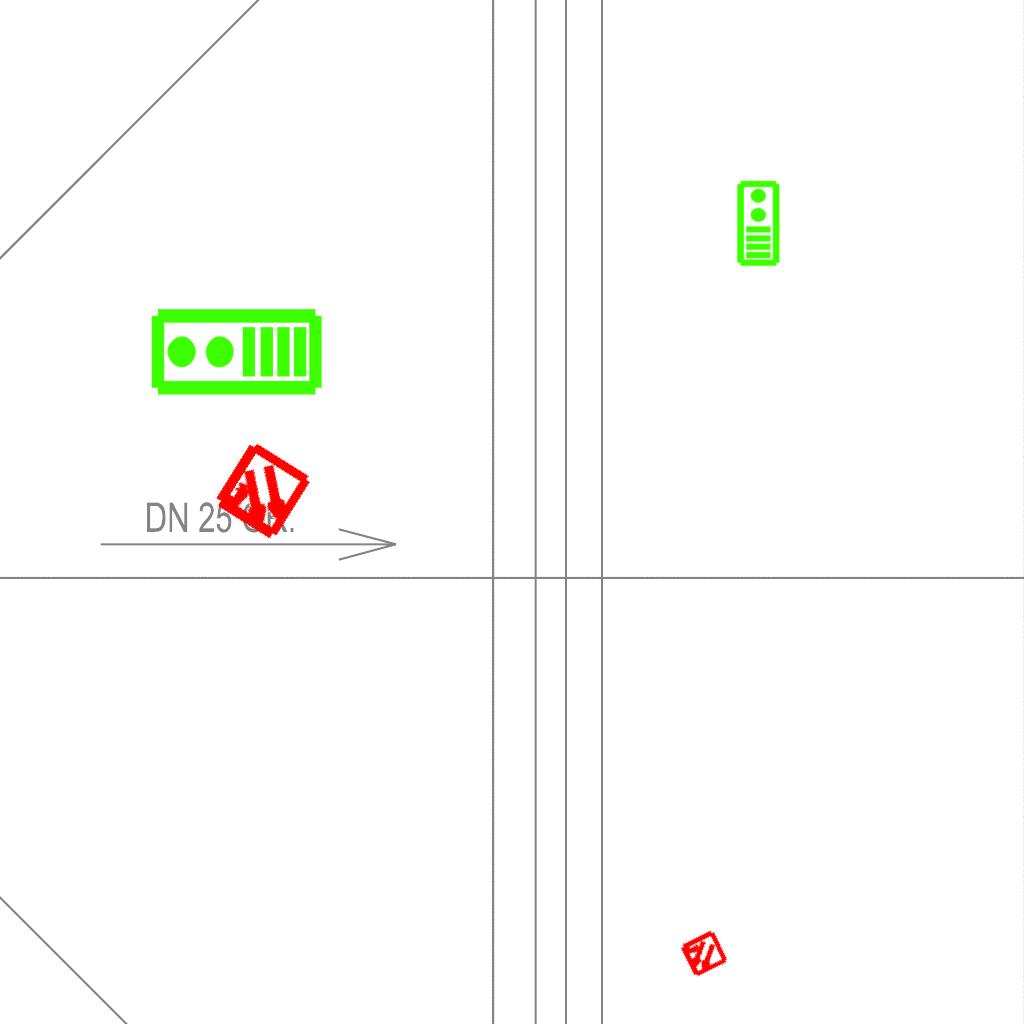Gegensprechanlage_mit_Video: (148, 306, 324, 401), (734, 179, 781, 267)
OT_Multisensormelder_(Kombination_RMO_WMD): (183, 414, 340, 571), (665, 916, 741, 992)
